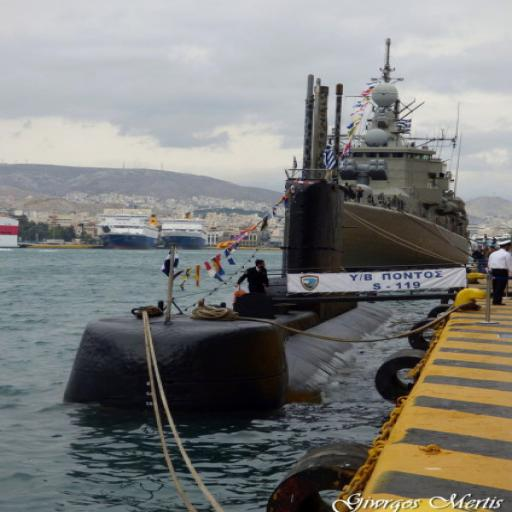submarine: (59, 294, 402, 406)
